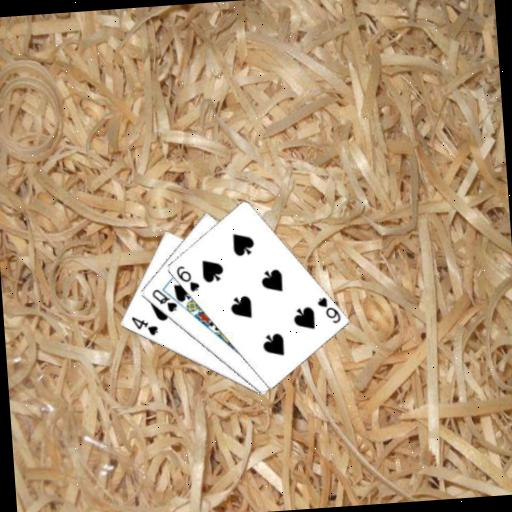4S: (128, 312, 160, 338)
6S: (172, 262, 201, 295), (314, 293, 343, 326)
QS: (149, 285, 179, 315)
